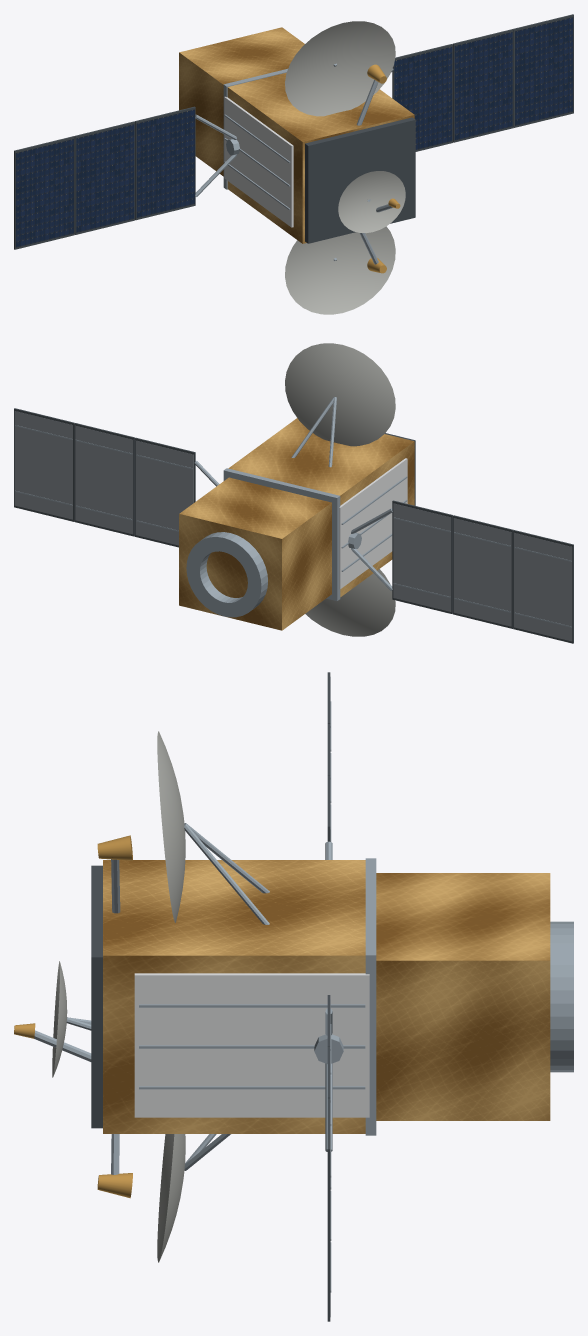
Rendered from ref-ekspress-1000h-37950.glb.
3 views of the same model, one above another, from view 1: azimuth 30°, elevation 25°; view 2: azimuth 150°, elevation 25°; view 3: azimuth 270°, elevation 25° (orthographic). The views are drawn at different scales.
Visible parts, largest first — view 1: Solar cell panel (×6), Communications reflector (×2), Earth-facing deck, Service module, Payload module, Radiator face, Solar panel frame (×6), Deck-mounted reflector, Module interface; view 2: Rear array substrate (×6), Service module, Communications reflector (×2), Payload module, Radiator face, Solar panel frame (×6), Launch adapter ring, Module interface; view 3: Service module, Payload module, Radiator face, Communications reflector (×2), Launch adapter ring, Earth-facing deck, Module interface, Radiator seam (×2), Deck-mounted reflector, Solar panel frame.
Boxes of the visible parts, x1,y1,x2,y2 form: Solar cell panel (×6): (15,17,573,247); Communications reflector (×2): (285,21,395,314); Earth-facing deck: (305,117,415,243); Service module: (179,27,304,176); Payload module: (227,72,414,243); Radiator face: (224,96,293,227); Solar panel frame (×6): (14,14,573,249); Deck-mounted reflector: (338,171,405,233); Module interface: (223,68,287,189); Rear array substrate (×6): (14,411,572,641); Service module: (179,477,331,630); Communications reflector (×2): (285,343,395,636); Payload module: (228,418,414,597); Radiator face: (339,458,407,589); Solar panel frame (×6): (14,408,573,643); Launch adapter ring: (186,532,267,617); Module interface: (223,468,340,600); Service module: (376,873,550,1120); Payload module: (103,860,365,1133); Radiator face: (134,973,369,1117); Communications reflector (×2): (157,731,185,1262); Launch adapter ring: (550,921,573,1072); Earth-facing deck: (91,865,102,1128); Module interface: (365,858,376,1135); Radiator seam (×2): (139,1004,365,1089); Deck-mounted reflector: (52,961,67,1077); Solar panel frame: (327,1098,330,1321).
Bounding box in the file's own units: 9.99 × 4.95 × 4.96.
Materials: 8 (2 with a texture image).
